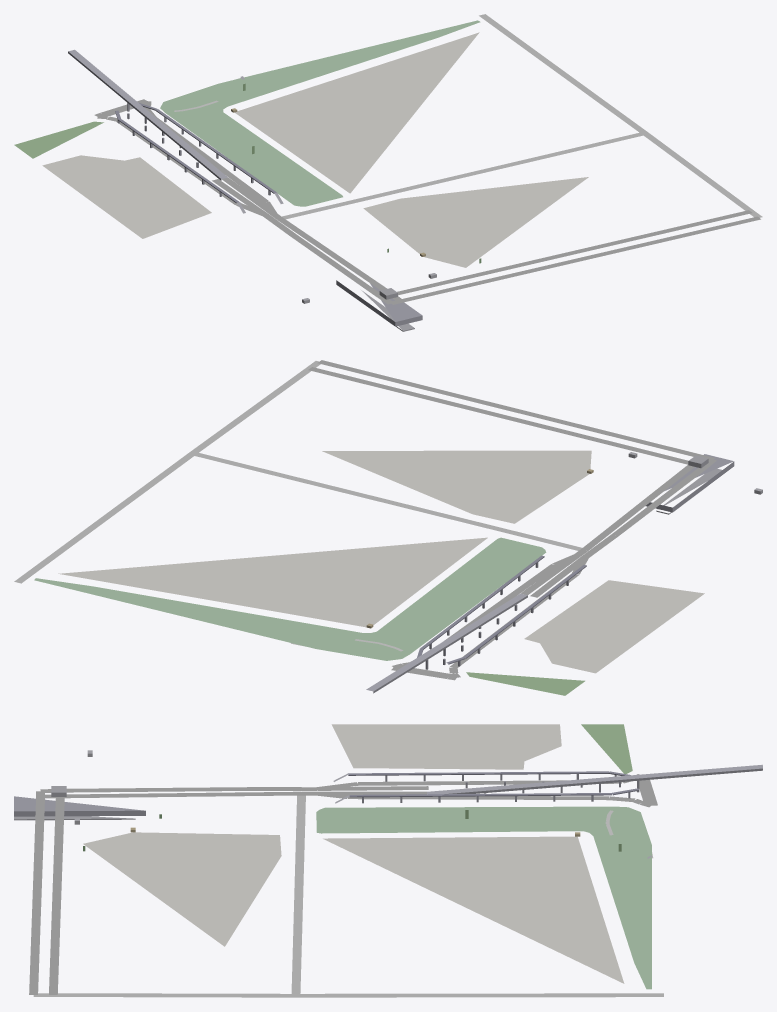
3 renders of one model, top to bottom at view 1: azimuth 30°, elevation 25°; view 2: azimuth 150°, elevation 25°; view 3: azimuth 270°, elevation 25°, orthographic. The views are drawn at different scales.
Bounding box in the file's own units: 504 × 39.9 × 587.
